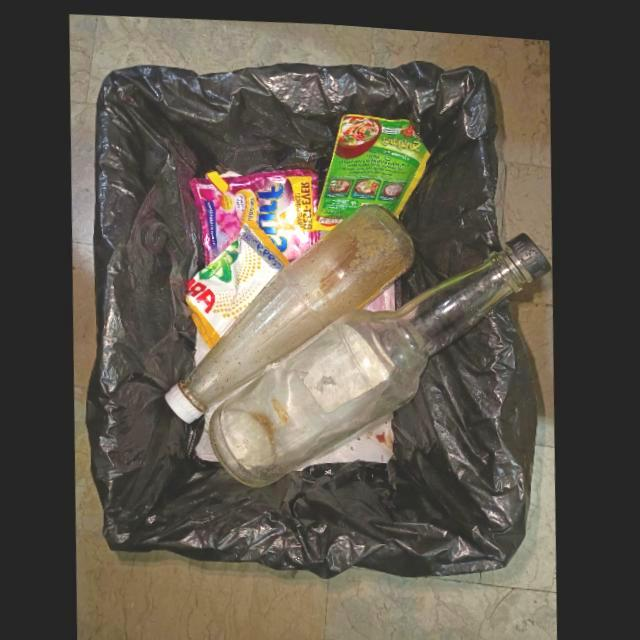glass_bottle: (210, 224, 552, 483), (167, 197, 416, 419)
plastic_sachet: (313, 107, 431, 225), (187, 215, 291, 345), (189, 163, 322, 261)
